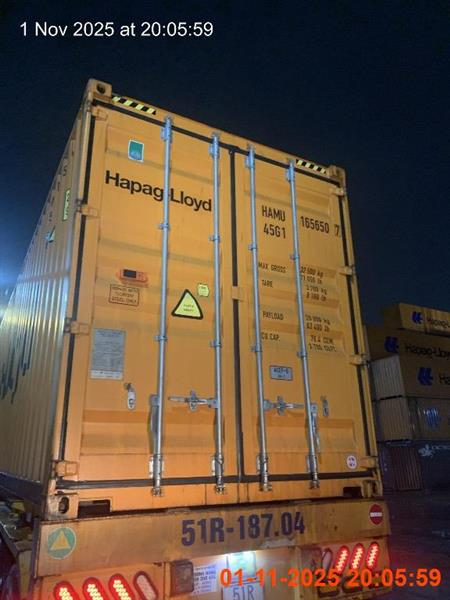broken: (0, 78, 394, 599)
